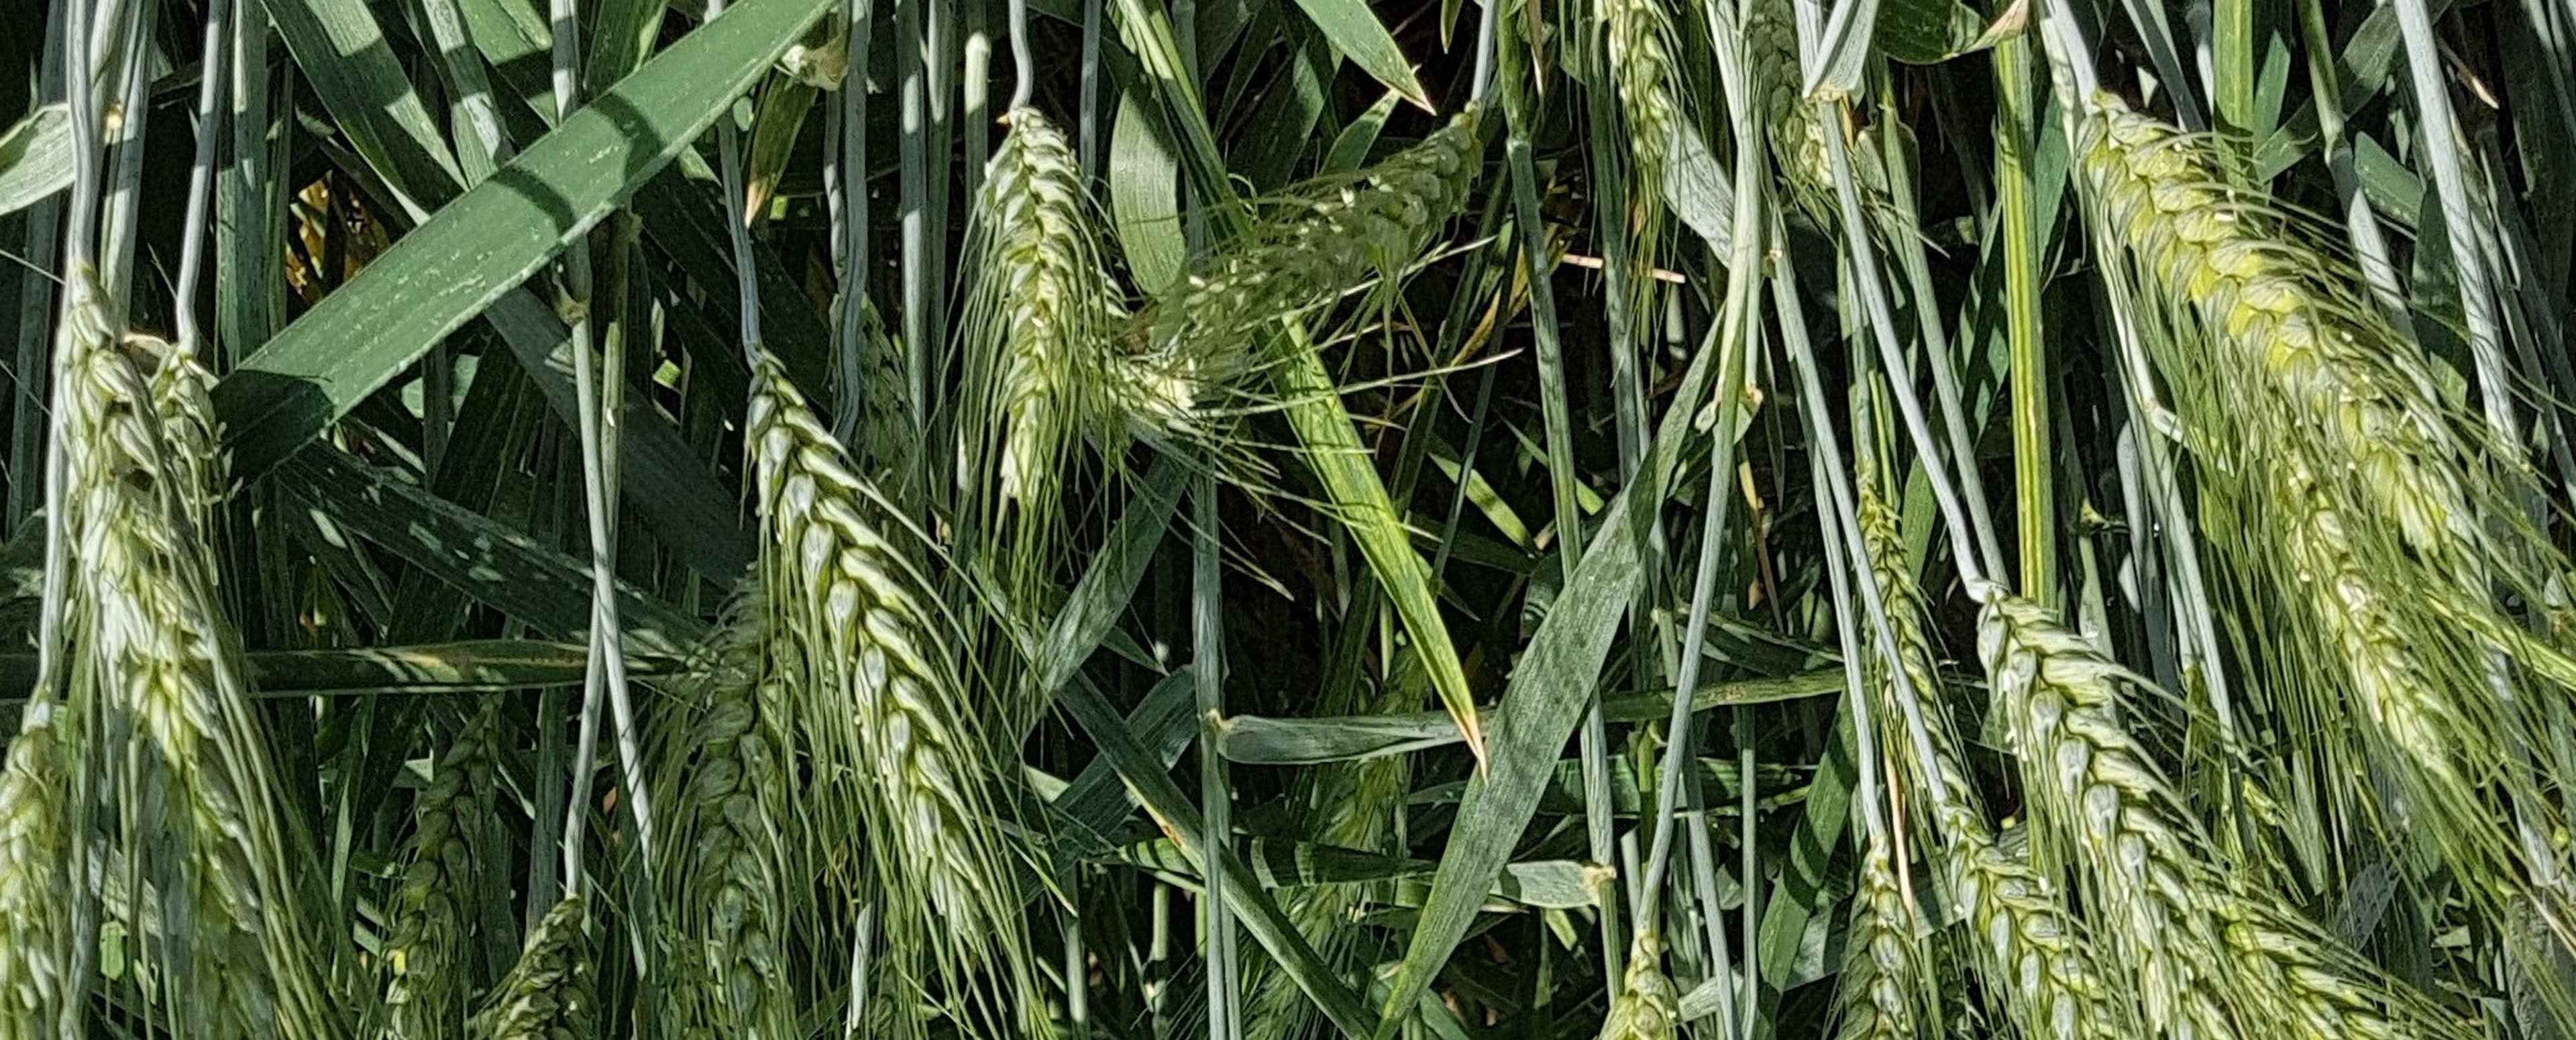Healthy Wheat: (724, 360, 1032, 920)
